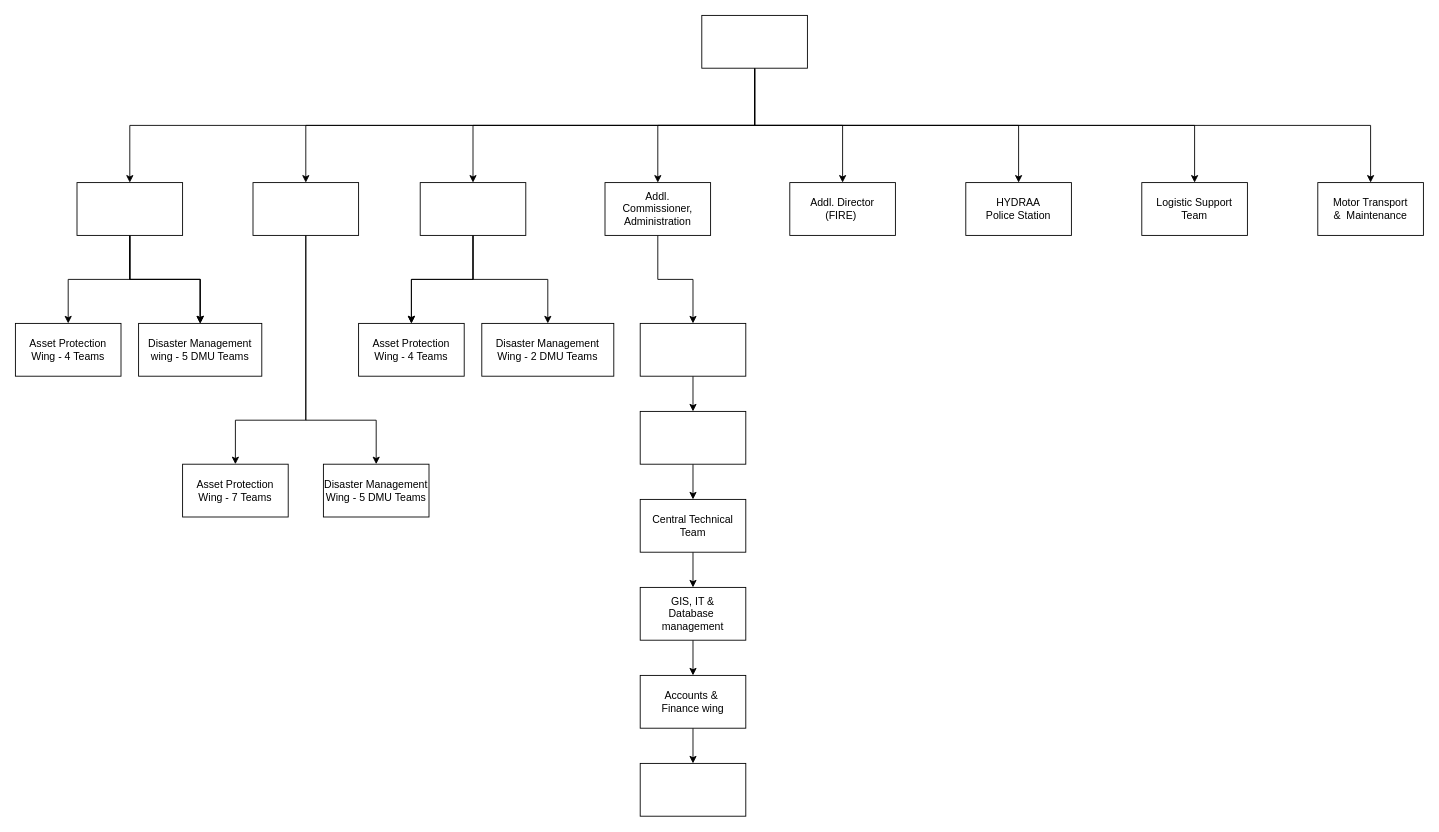
Image size: 1439x832. Some labels were removed from this diagram. Here are the shapes that lost their labels. From the top down, the box of each, then its label:
(701, 15, 807, 68): Commissioner, HYDRAA
(76, 182, 183, 235): Addl. Commissioner, Hyderabad
(252, 182, 359, 235): Addl. Commissioner Cyberabad
(419, 182, 526, 235): Addl. Commissioner Rachakonda
(639, 323, 746, 376): Administration & Personnel management
(639, 411, 746, 464): Legal wing & Domain experts
(639, 763, 746, 816): Armed force - 1 Coy
